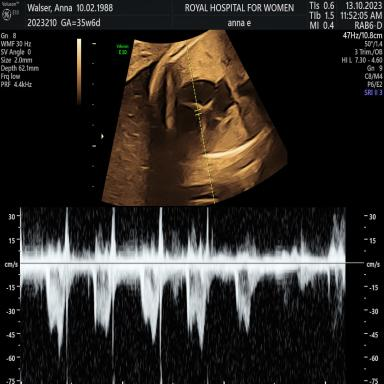Ultrasound-Waves: (30, 207, 347, 384)
